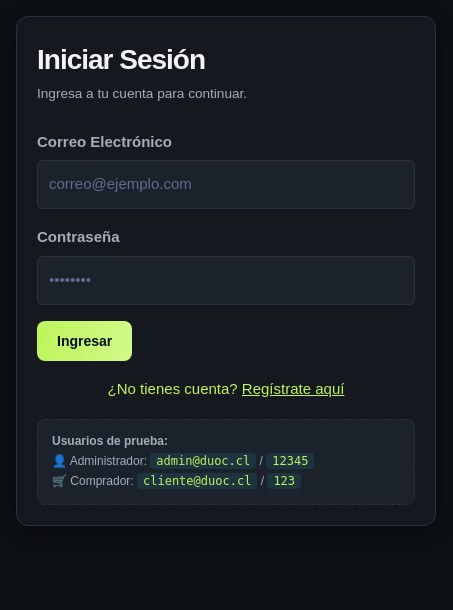
Test: Login › UI08 login informa credenciales inválidas
This screenshot has width=453, height=610.
Type "no@example.com" into the field labelled "Correo Electrónico" at (226, 185), box [37,160,415,209]
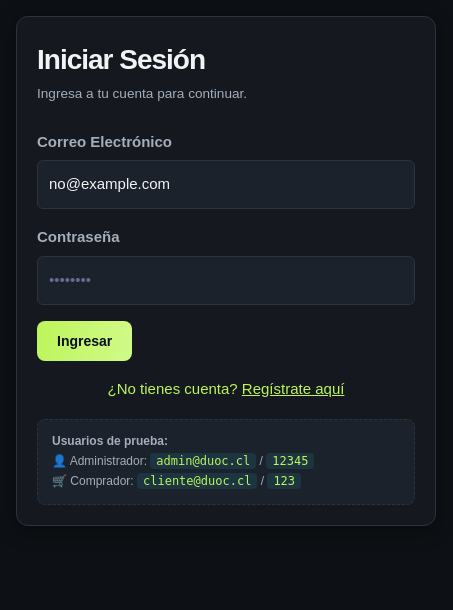
Type "mala" into the password field labelled "Contraseña" at (226, 280), box [37,256,415,305]
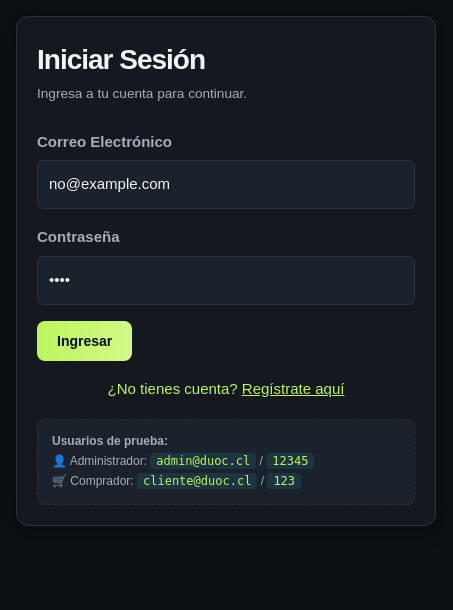
Click the button "Ingresar" at (85, 341), box [37,321,132,361]
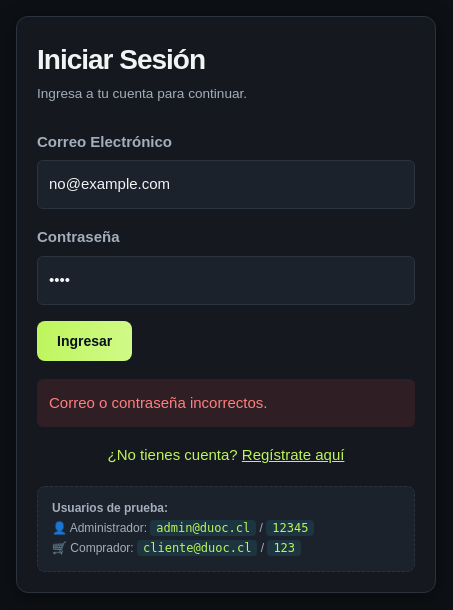
Expected: the message shows "incorrectos", [49,394,267,411]
